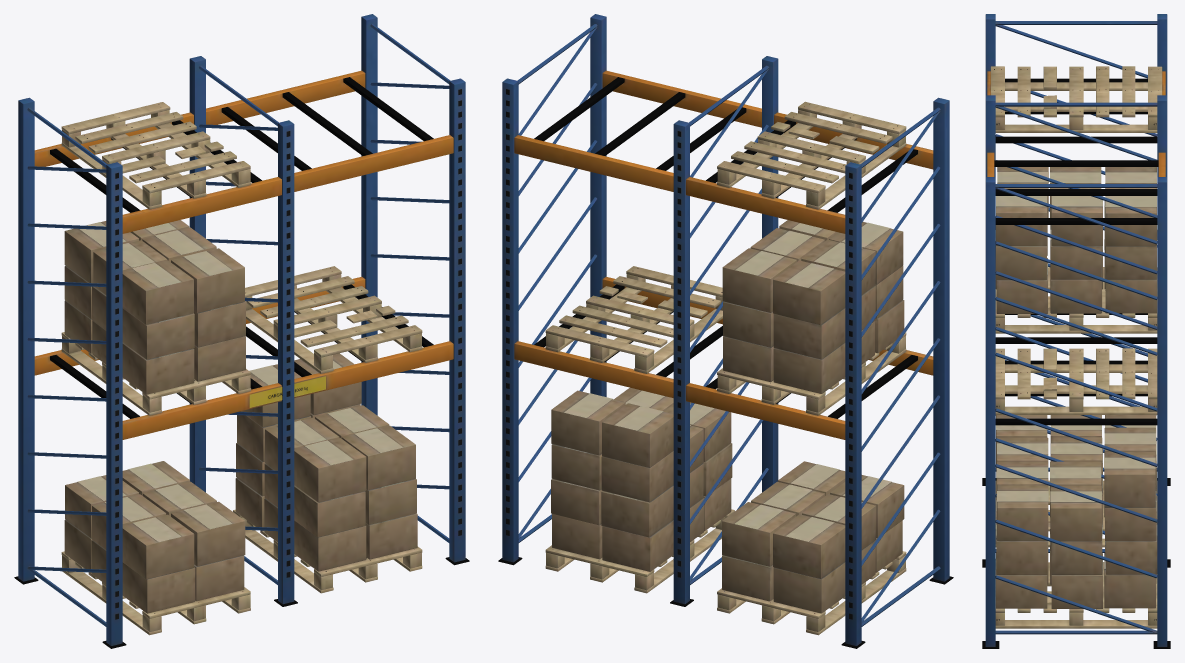
Rendered from porta_pallet.glb.
3 views of the same model, side by side, from view 1: azimuth 30°, elevation 25°; view 2: azimuth 150°, elevation 25°; view 3: azimuth 270°, elevation 25° (orthographic). The views are drawn at different scales.
Visible parts, largest first — view 1: porta_pallet; view 2: porta_pallet; view 3: porta_pallet.
Part boxes in pixels (x1=…): porta_pallet: x1=14, y1=14, x2=469, y2=648; porta_pallet: x1=498, y1=14, x2=953, y2=648; porta_pallet: x1=982, y1=14, x2=1170, y2=648.
Size of the model in its own units: 2.82 by 3.6 by 1.32.
Materials: 1 (1 with a texture image).
